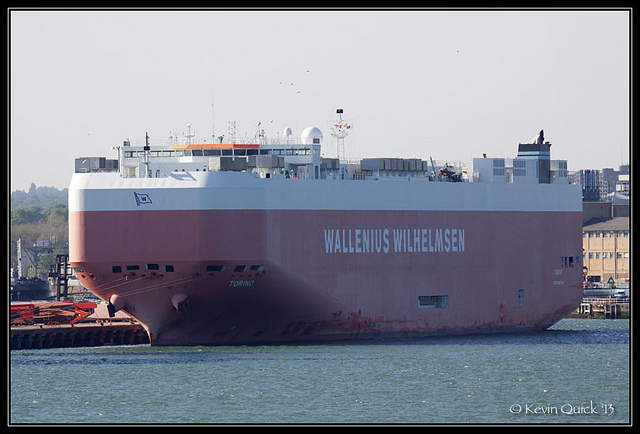PCC: (60, 119, 589, 348)
